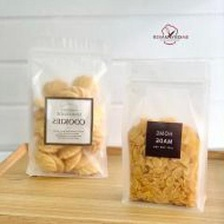snack: (115, 52, 216, 217), (17, 47, 115, 185)
